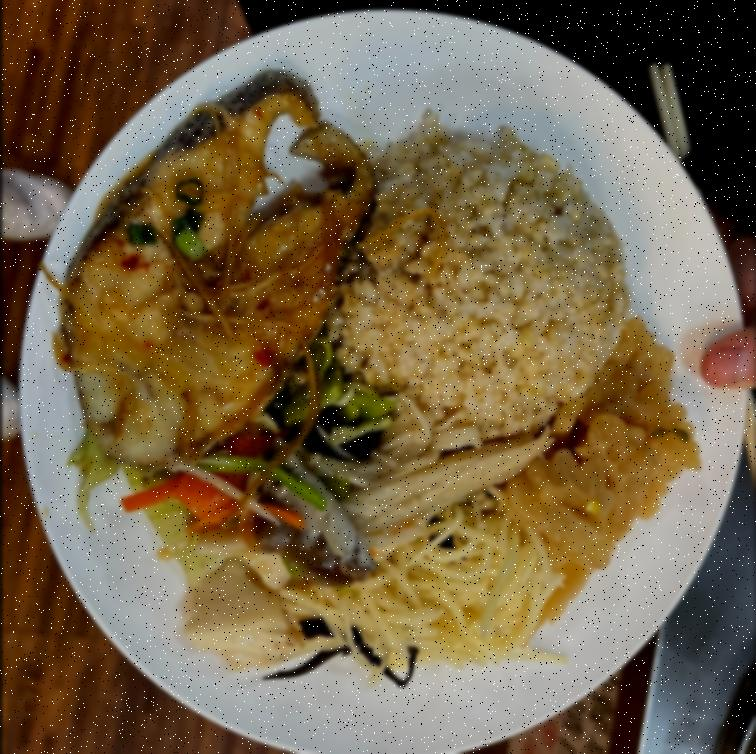braised fish: (61, 68, 385, 470)
brown rice: (322, 107, 633, 443)
plate: (11, 14, 743, 754)
side dish: (156, 362, 554, 564), (520, 321, 702, 618), (292, 516, 560, 664)
